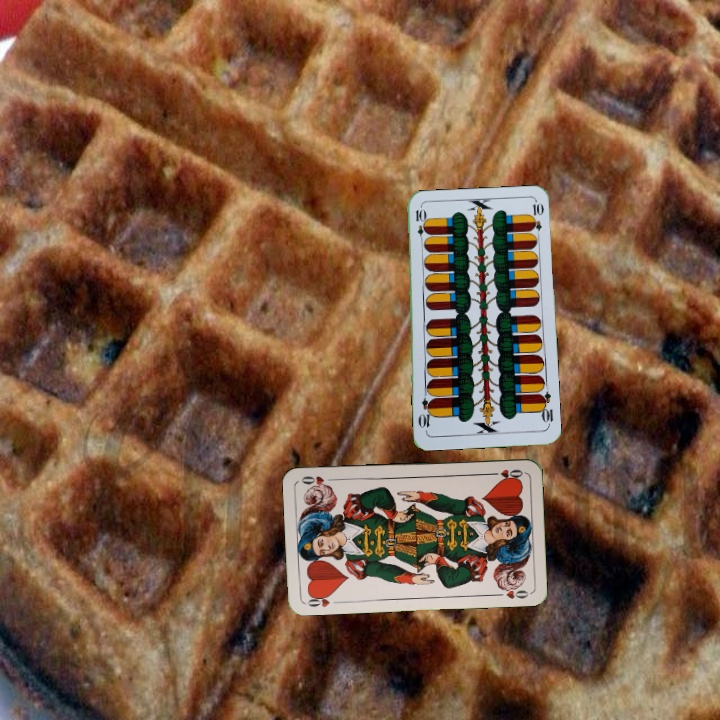E10: (535, 388, 555, 429), (412, 205, 427, 246)
HO: (302, 590, 343, 610), (485, 465, 525, 482)
